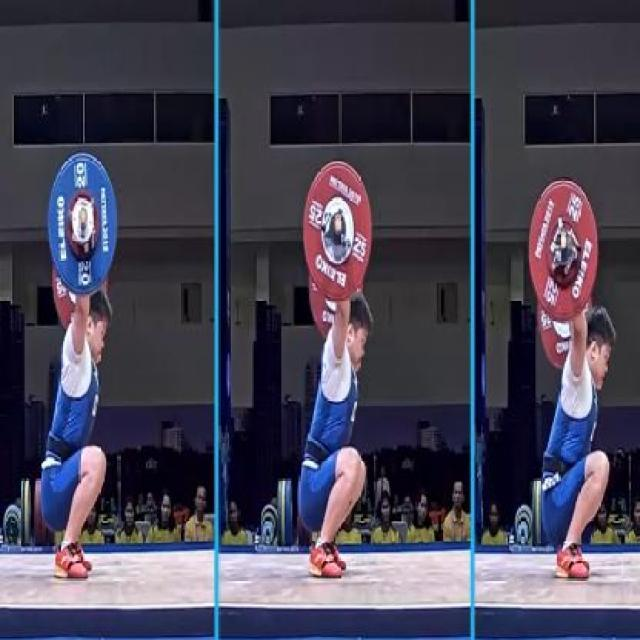Barbell: (332, 210, 345, 239), (76, 204, 90, 228), (559, 226, 570, 252)
